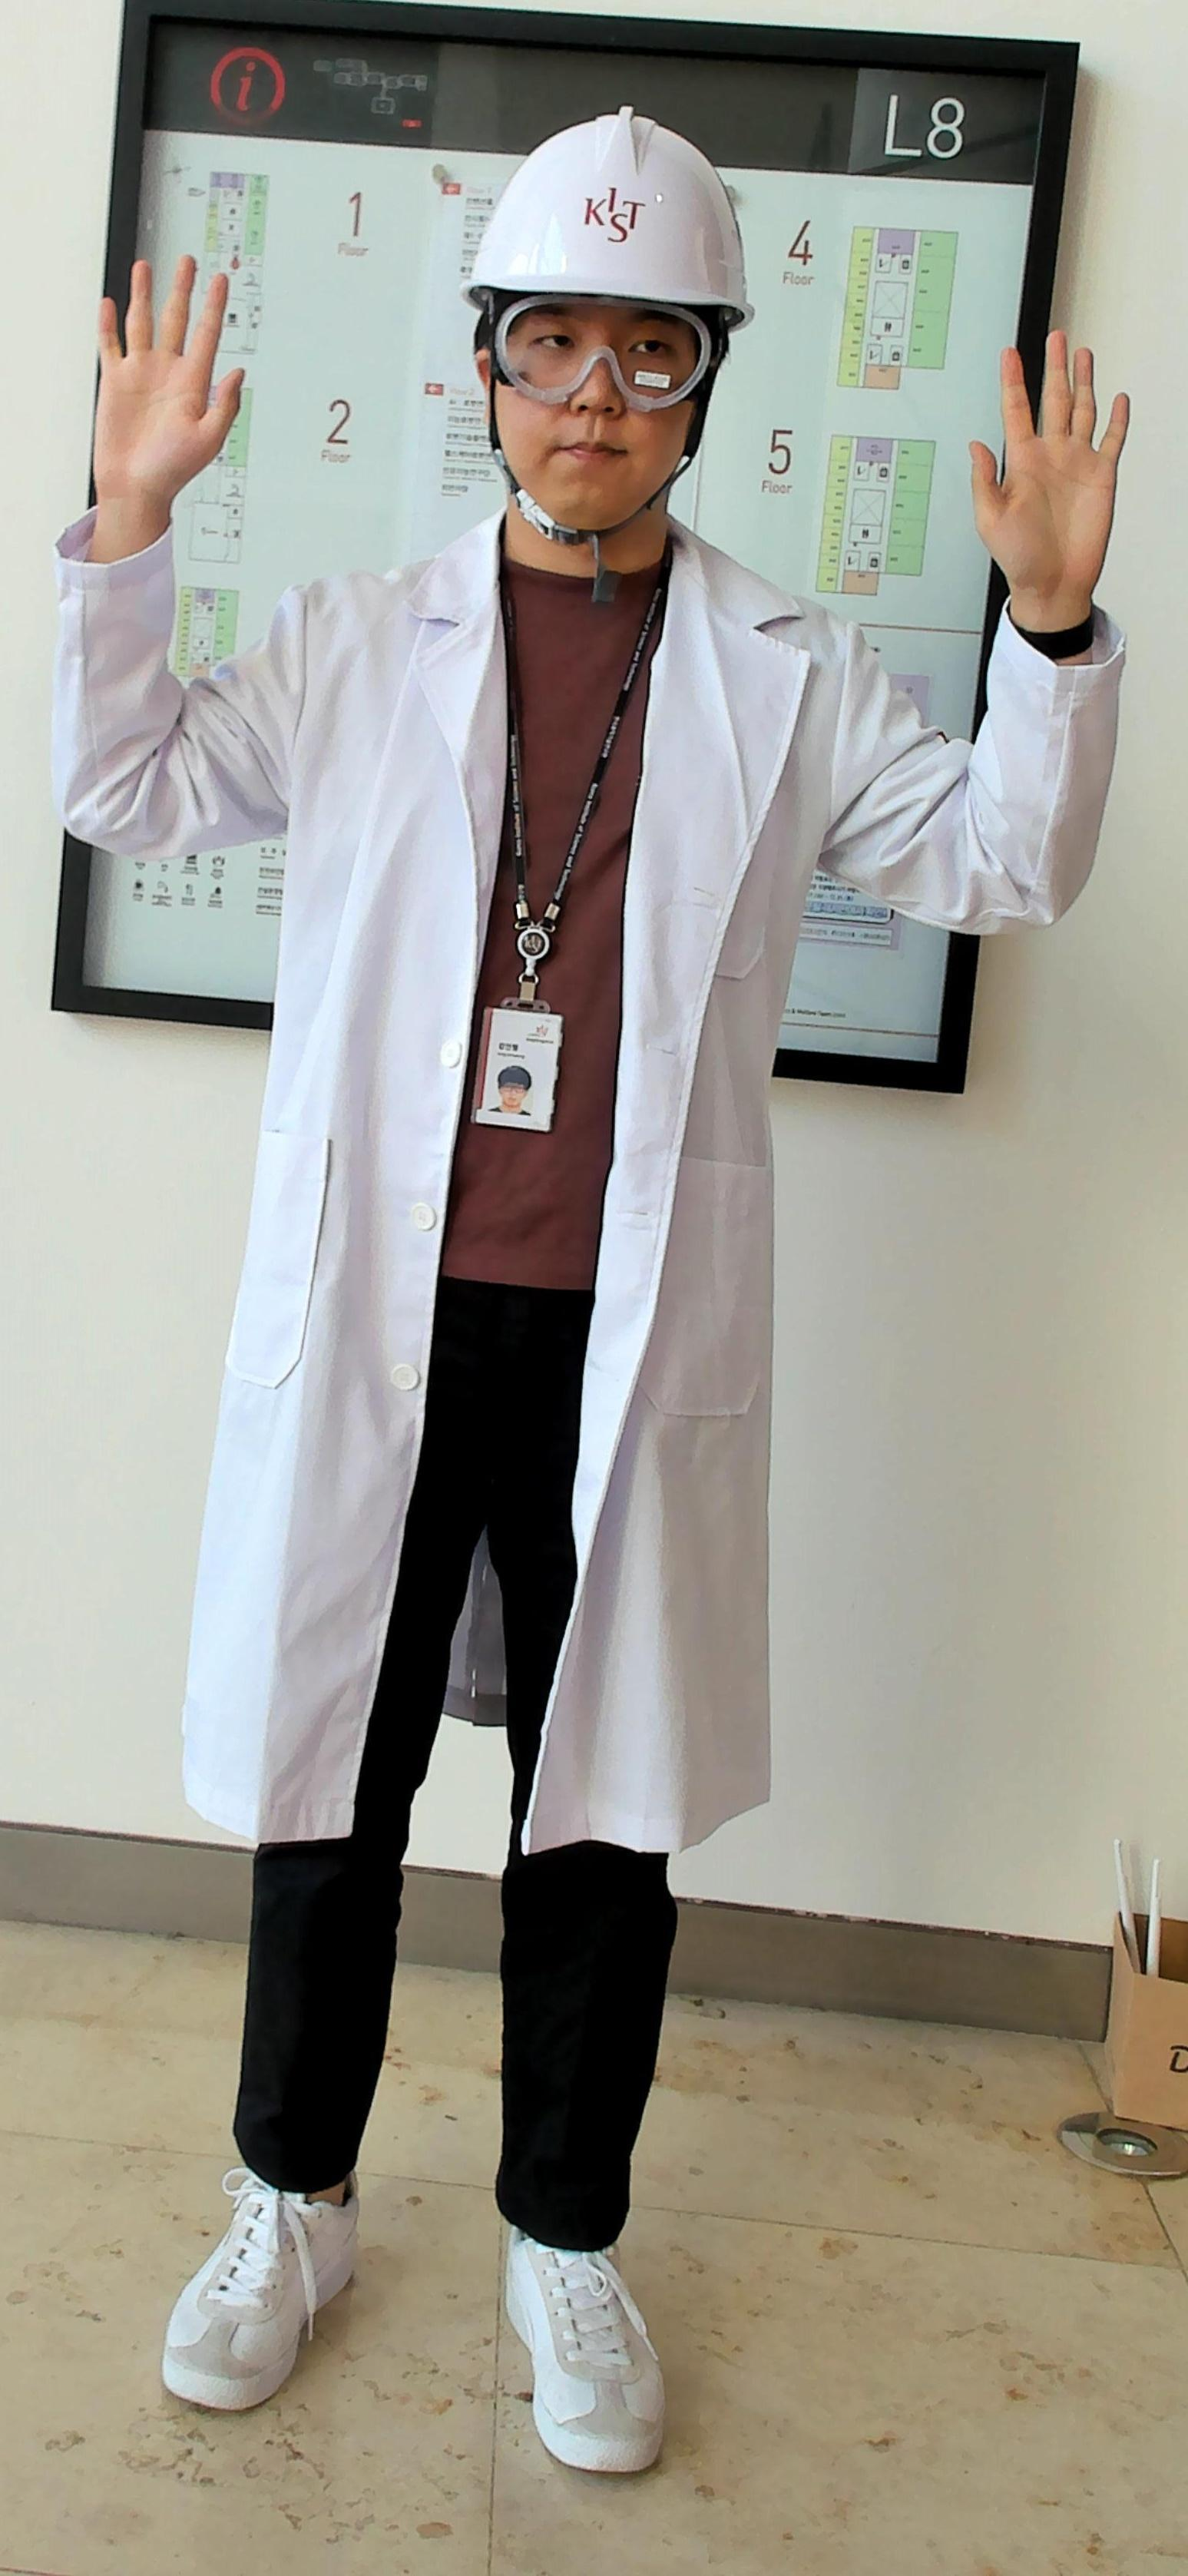lab_coat: (171, 601, 923, 1825)
